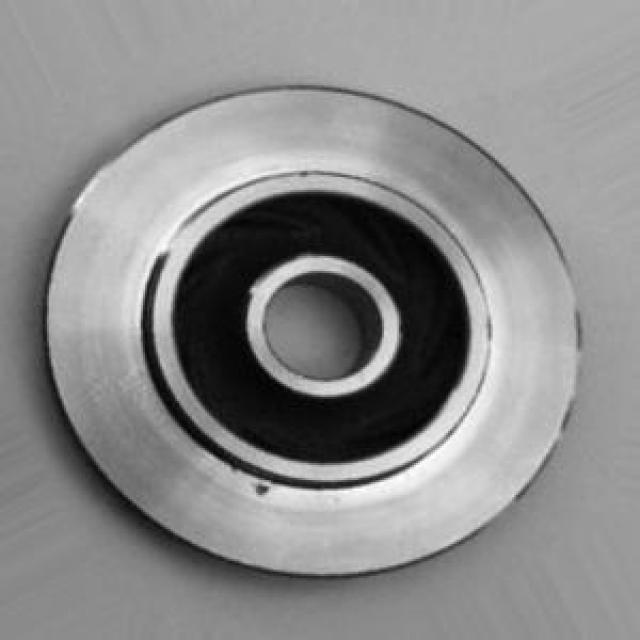Defect: (246, 471, 276, 504)
